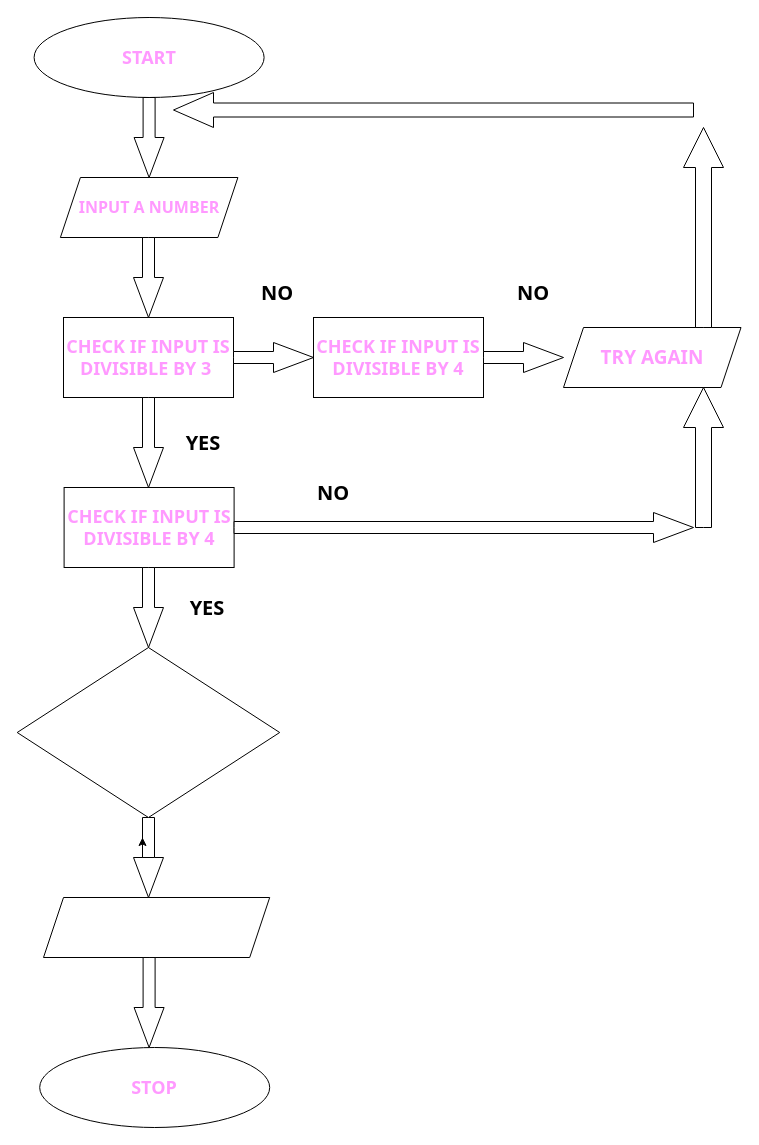
This 759x1145 diagram has some shape labels left out. The centre of each missing label's shape, as x and y in pixels:
IF INPUT IS DIVISIBLE BY BOTH 3 AND 4: pixel 148 732
OUTPUT INPUT IS DIVISIBLE BY BOTH 3 AND $: pixel 156 927
